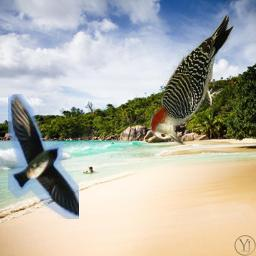Swallow: (8, 94, 79, 219)
Woodpecker: (148, 15, 234, 145)
